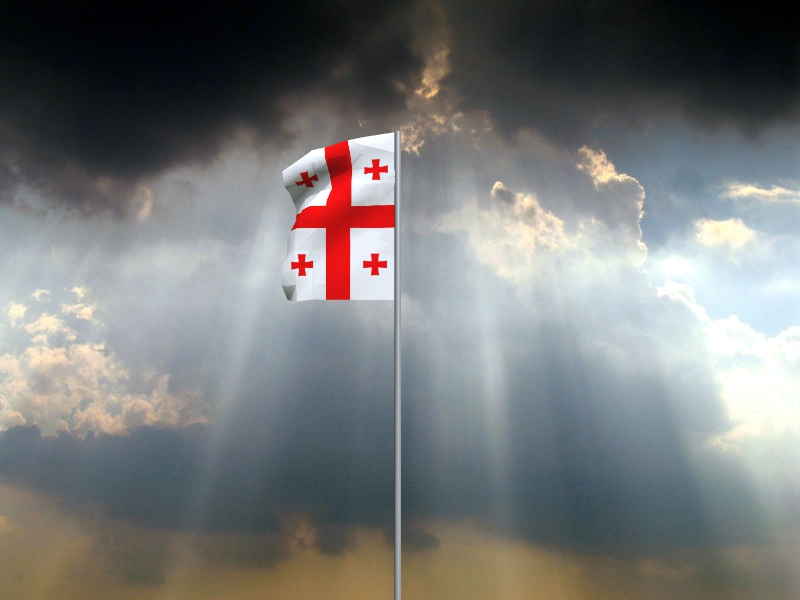ge: (280, 133, 395, 303)
